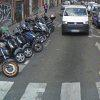Crosswalk: (7, 77, 100, 100)
